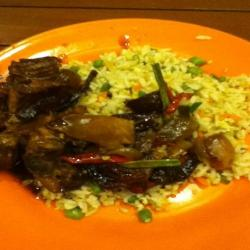omelette: (75, 52, 250, 203)
